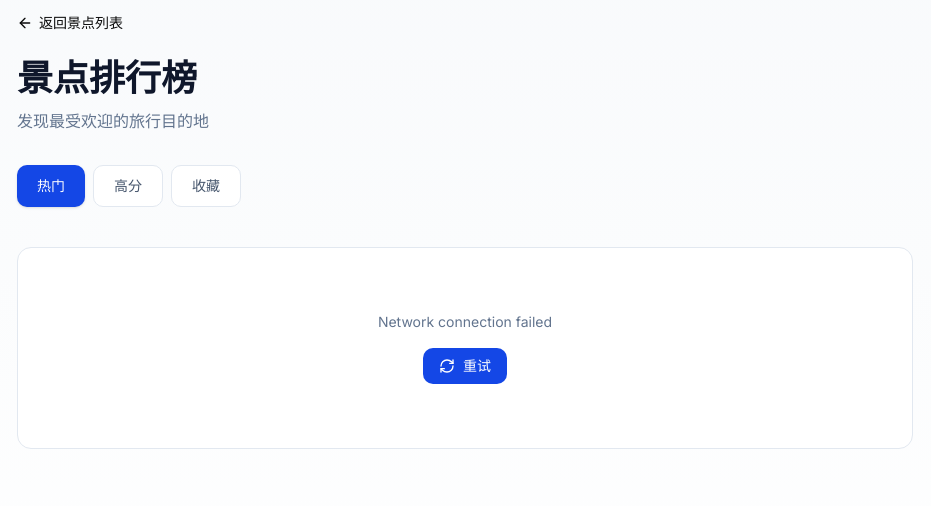
Test case: RankingPage › retry button refetches data
Click the button "重试" at point(465, 366), box [423,348,507,384]
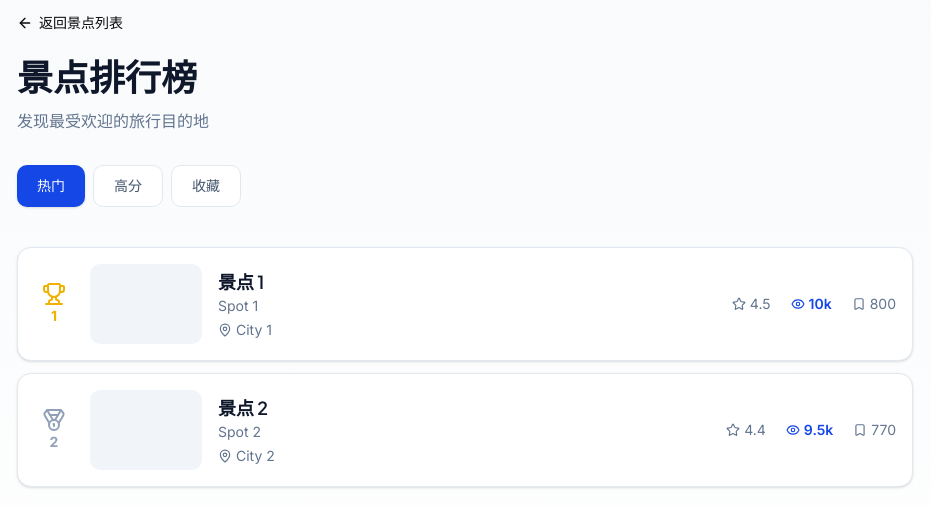
Expected: the heading "景点 1" is shown, [218,270,264,293]
